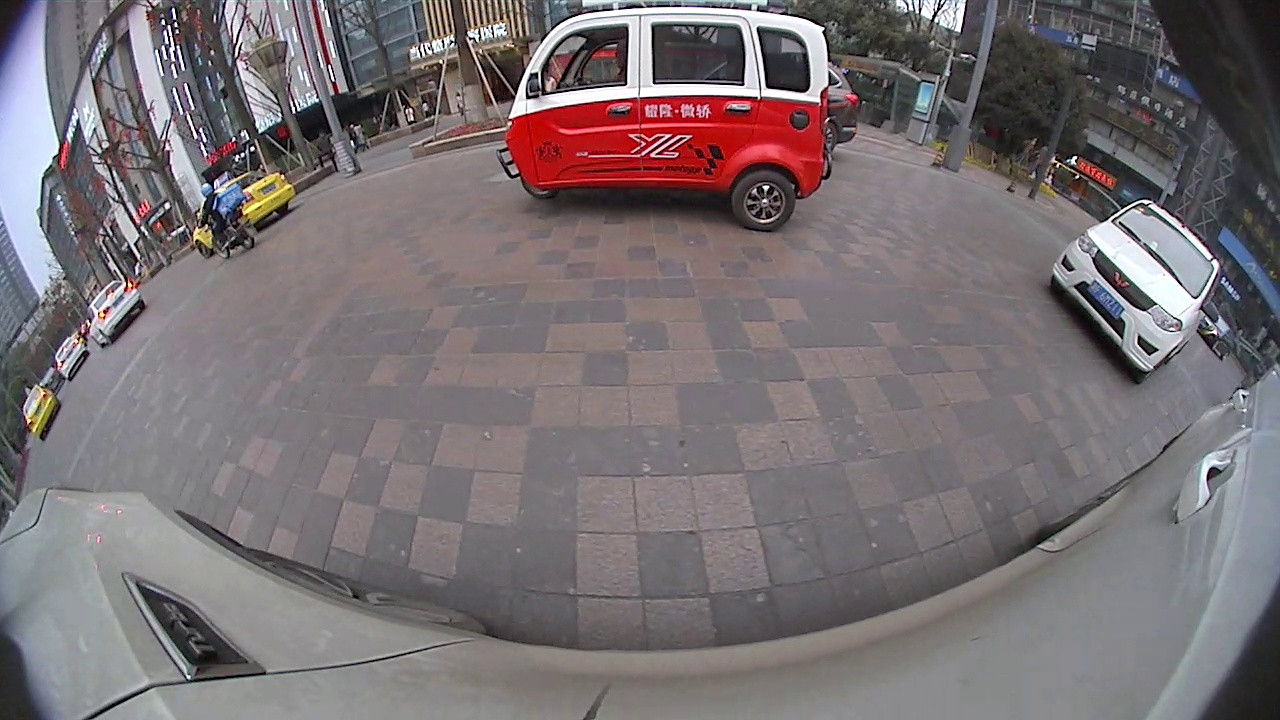car: (1049, 196, 1224, 387), (192, 170, 297, 260), (84, 278, 145, 349), (825, 59, 861, 161), (21, 383, 63, 440), (52, 334, 92, 384)
front: (518, 166, 562, 202)
rear: (727, 166, 797, 233), (820, 116, 840, 163)
rider: (495, 4, 831, 234), (194, 181, 255, 260)
